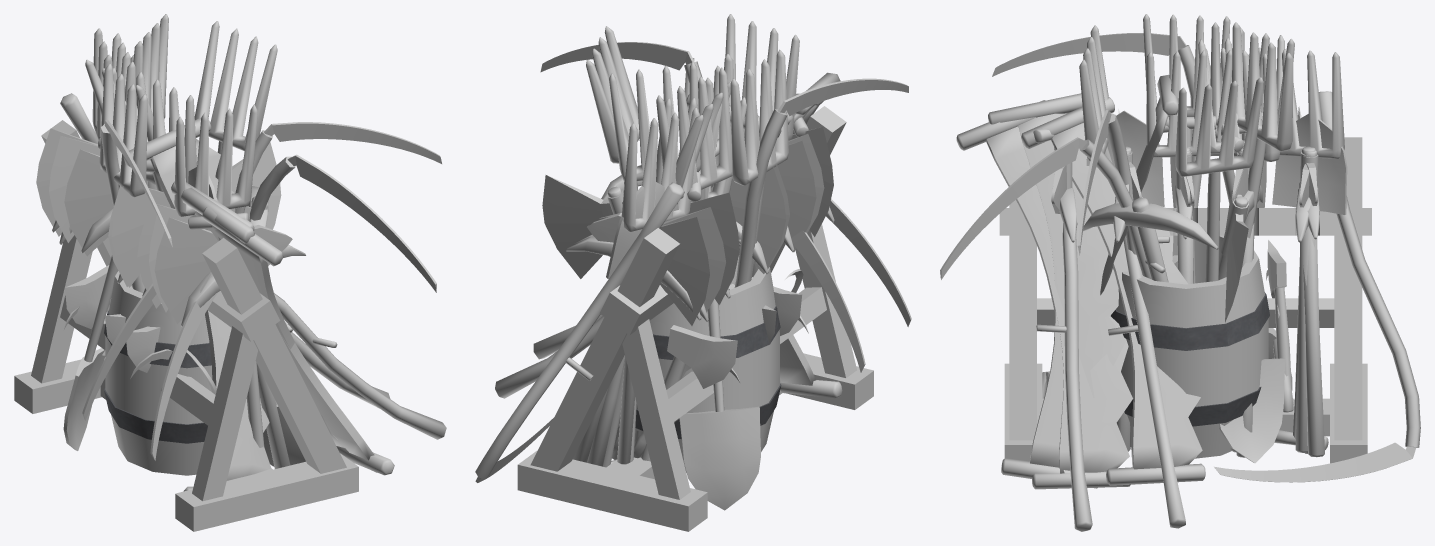
Rendered from tools.fbx.
3 renders of one model, left to right at view 1: azimuth 30°, elevation 25°; view 2: azimuth 150°, elevation 25°; view 3: azimuth 270°, elevation 25°, orthographic. The views are drawn at different scales.
Parts seen in each view (by area): view 1: rack.002, barrel.001, axe.001, axe.003, rack.001, scythe.004, saw, pitchfork.005, saw.003, pitchfork.004, pitchfork.003, scythe.002 (+17 smaller); view 2: rack.002, rack.001, axe.001, barrel.001, spade.001, axe.003, scythe.001, pitchfork.006, pitchfork.003, hatchet.002, scythe, axe (+16 smaller); view 3: rack.002, barrel.001, saw.003, saw.001, saw.004, spade.003, scythe.001, pickaxe.002, pitchfork.005, pitchfork, scythe.004, scythe.002 (+19 smaller).
Part boxes in pixels (x1,y1,x2,y2): rack.002: (14, 120, 358, 531); barrel.001: (104, 271, 212, 475); axe.001: (36, 128, 292, 447); axe.003: (49, 136, 170, 287); rack.001: (14, 136, 306, 523); scythe.004: (150, 272, 446, 460); saw: (123, 118, 271, 491); pitchfork.005: (194, 21, 277, 178); saw.003: (181, 187, 394, 475); pitchfork.004: (174, 104, 257, 216); pitchfork.003: (99, 63, 147, 292); scythe.002: (250, 155, 436, 292); rack.002: (519, 106, 873, 531); rack.001: (517, 116, 873, 531); axe.001: (594, 127, 833, 461); barrel.001: (635, 264, 781, 472); spade.001: (679, 166, 760, 510); axe.003: (587, 163, 789, 464); scythe.001: (475, 182, 684, 482); pitchfork.006: (587, 107, 699, 466); pitchfork.003: (730, 49, 788, 282); hatchet.002: (641, 277, 801, 461); scythe: (734, 78, 908, 287); axe: (542, 175, 623, 278); rack.002: (999, 137, 1371, 463); barrel.001: (1111, 235, 1269, 458); saw.003: (988, 93, 1126, 488); saw.001: (956, 100, 1132, 489); saw.004: (1021, 97, 1205, 485); spade.003: (1033, 110, 1347, 463); scythe.001: (1214, 91, 1420, 482); pickaxe.002: (1059, 182, 1324, 457); pitchfork.005: (1175, 77, 1263, 282); pitchfork: (1232, 22, 1293, 238); scythe.004: (1036, 223, 1092, 531); scythe.002: (940, 137, 1164, 279).
Bounding box in the file's own units: 237 × 225 × 195.
